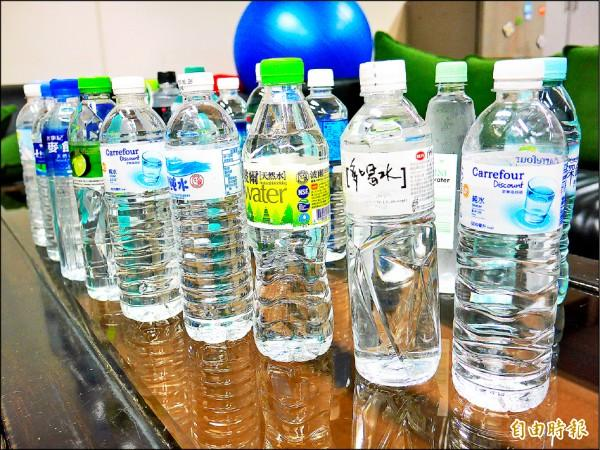plastic: (450, 58, 596, 447), (165, 72, 262, 447), (34, 78, 181, 321), (243, 58, 332, 446), (342, 61, 440, 386)
